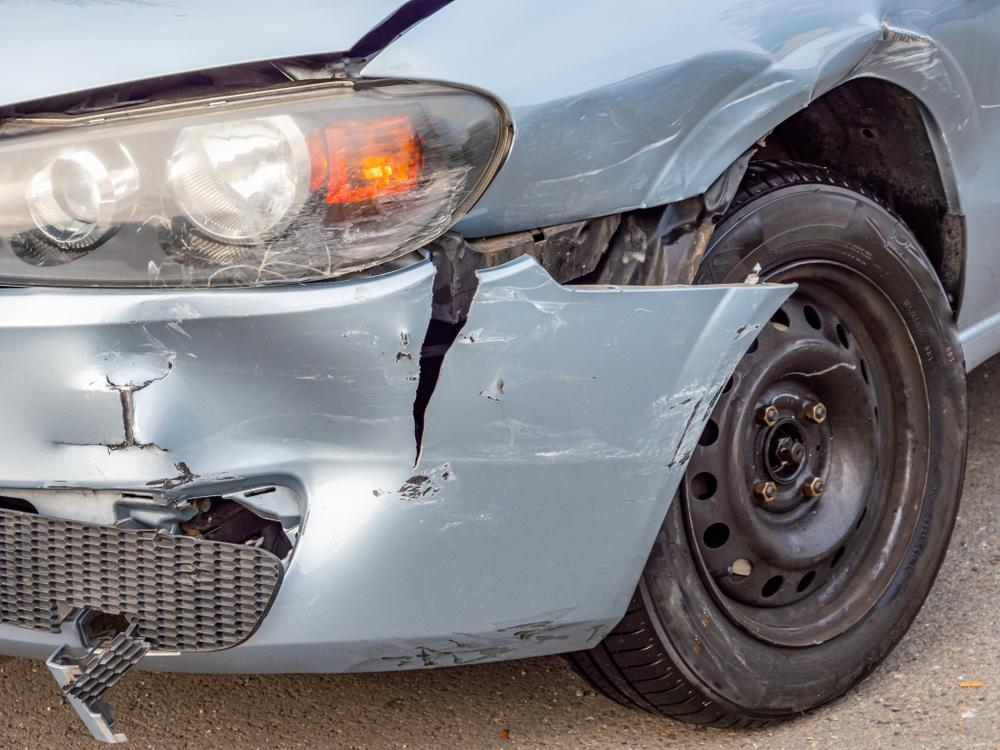crack: (411, 263, 483, 468), (47, 365, 172, 454)
dent: (482, 0, 1000, 225), (91, 299, 406, 564)
scratch: (386, 275, 768, 528), (233, 167, 477, 292), (343, 603, 609, 674)
